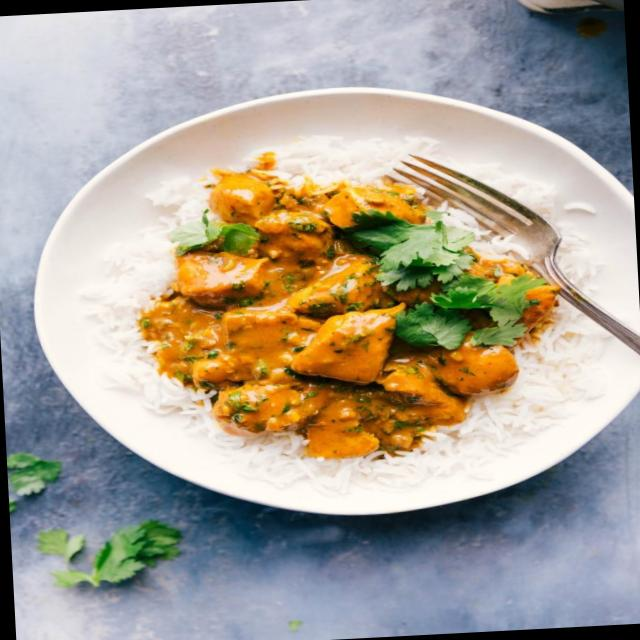chicken: (171, 154, 551, 458)
